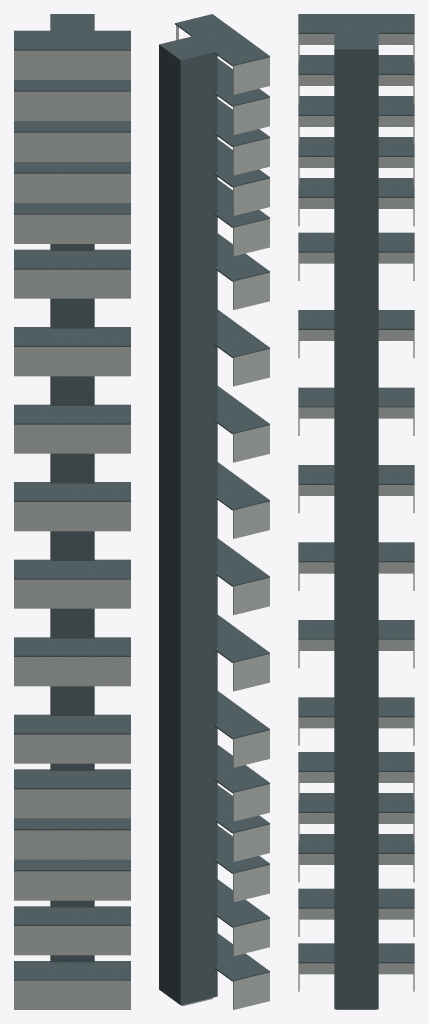
The model's file is AST-STF-G3-044.glb.
The picture shows the model from 3 angles, left to right: view 1: azimuth 90°, elevation 25°; view 2: azimuth 210°, elevation 25°; view 3: azimuth 270°, elevation 25°; orthographic projection.
Parts seen in each view (by area): view 1: lobby_wall_staff_white_paint_y0, lobby_wall_staff_white_paint_y2, lobby_wall_staff_white_paint_y11, lobby_wall_staff_white_paint_y12, overhead_staff_bluegrey_paint_y3, overhead_staff_bluegrey_paint_y1, overhead_staff_bluegrey_paint_y10, lobby_wall_staff_white_paint_y1, lobby_wall_staff_white_paint_y3, lobby_wall_staff_white_paint_y4, lobby_wall_staff_white_paint_y5, lobby_wall_staff_white_paint_y6 (+24 smaller); view 2: shaft_architecture_staff_bluegrey_paint_y8, shaft_architecture_staff_bluegrey_paint_y7, shaft_architecture_staff_bluegrey_paint_y0, shaft_architecture_staff_bluegrey_paint_y5, shaft_architecture_staff_bluegrey_paint_y2, shaft_architecture_staff_bluegrey_paint_y3, shaft_architecture_staff_bluegrey_paint_y11, shaft_architecture_staff_bluegrey_paint_y12, shaft_architecture_staff_bluegrey_paint_y9, shaft_architecture_staff_bluegrey_paint_y10, shaft_architecture_staff_bluegrey_paint_y6, shaft_architecture_staff_bluegrey_paint_y4 (+28 smaller); view 3: shaft_architecture_staff_bluegrey_paint_y0, shaft_architecture_staff_bluegrey_paint_y1, shaft_architecture_staff_bluegrey_paint_y2, shaft_architecture_staff_bluegrey_paint_y3, shaft_architecture_staff_bluegrey_paint_y4, shaft_architecture_staff_bluegrey_paint_y5, shaft_architecture_staff_bluegrey_paint_y10, shaft_architecture_staff_bluegrey_paint_y11, shaft_architecture_staff_bluegrey_paint_y12, shaft_architecture_staff_bluegrey_paint_y6, shaft_architecture_staff_bluegrey_paint_y7, shaft_architecture_staff_bluegrey_paint_y8 (+28 smaller).
Boxes of the visible parts, bbox=[...] form: lobby_wall_staff_white_paint_y0: bbox=[14, 926, 130, 1009]; lobby_wall_staff_white_paint_y2: bbox=[14, 789, 130, 859]; lobby_wall_staff_white_paint_y11: bbox=[14, 132, 130, 202]; lobby_wall_staff_white_paint_y12: bbox=[14, 50, 130, 120]; overhead_staff_bluegrey_paint_y3: bbox=[14, 714, 130, 789]; overhead_staff_bluegrey_paint_y1: bbox=[14, 859, 130, 925]; overhead_staff_bluegrey_paint_y10: bbox=[14, 203, 130, 269]; lobby_wall_staff_white_paint_y1: bbox=[14, 871, 130, 900]; lobby_wall_staff_white_paint_y3: bbox=[14, 734, 130, 763]; lobby_wall_staff_white_paint_y4: bbox=[14, 657, 130, 686]; lobby_wall_staff_white_paint_y5: bbox=[14, 579, 130, 608]; lobby_wall_staff_white_paint_y6: bbox=[14, 502, 130, 531]; shaft_architecture_staff_bluegrey_paint_y8: bbox=[159, 296, 217, 430]; shaft_architecture_staff_bluegrey_paint_y7: bbox=[159, 373, 217, 502]; shaft_architecture_staff_bluegrey_paint_y0: bbox=[159, 889, 217, 1005]; shaft_architecture_staff_bluegrey_paint_y5: bbox=[159, 525, 217, 646]; shaft_architecture_staff_bluegrey_paint_y2: bbox=[159, 754, 217, 861]; shaft_architecture_staff_bluegrey_paint_y3: bbox=[159, 678, 217, 789]; shaft_architecture_staff_bluegrey_paint_y11: bbox=[159, 122, 217, 215]; shaft_architecture_staff_bluegrey_paint_y12: bbox=[159, 54, 217, 143]; shaft_architecture_staff_bluegrey_paint_y9: bbox=[159, 243, 217, 359]; shaft_architecture_staff_bluegrey_paint_y10: bbox=[159, 200, 217, 287]; shaft_architecture_staff_bluegrey_paint_y6: bbox=[159, 455, 217, 574]; shaft_architecture_staff_bluegrey_paint_y4: bbox=[159, 631, 217, 718]; shaft_architecture_staff_bluegrey_paint_y0: bbox=[334, 936, 378, 1009]; shaft_architecture_staff_bluegrey_paint_y1: bbox=[334, 863, 378, 936]; shaft_architecture_staff_bluegrey_paint_y2: bbox=[334, 790, 378, 863]; shaft_architecture_staff_bluegrey_paint_y3: bbox=[334, 717, 378, 790]; shaft_architecture_staff_bluegrey_paint_y4: bbox=[334, 644, 378, 717]; shaft_architecture_staff_bluegrey_paint_y5: bbox=[334, 571, 378, 644]; shaft_architecture_staff_bluegrey_paint_y10: bbox=[334, 207, 378, 280]; shaft_architecture_staff_bluegrey_paint_y11: bbox=[334, 134, 378, 207]; shaft_architecture_staff_bluegrey_paint_y12: bbox=[334, 61, 378, 134]; shaft_architecture_staff_bluegrey_paint_y6: bbox=[334, 499, 378, 571]; shaft_architecture_staff_bluegrey_paint_y7: bbox=[334, 426, 378, 498]; shaft_architecture_staff_bluegrey_paint_y8: bbox=[334, 353, 378, 425].
Bounding box in the file's own units: 8.32 × 106 × 11.6.
Materials: 4 (4 with a texture image).
